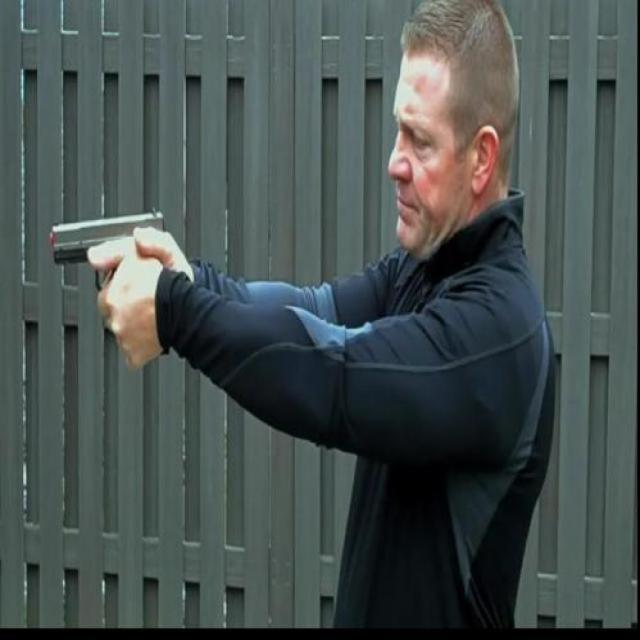pistol: (42, 206, 172, 360)
